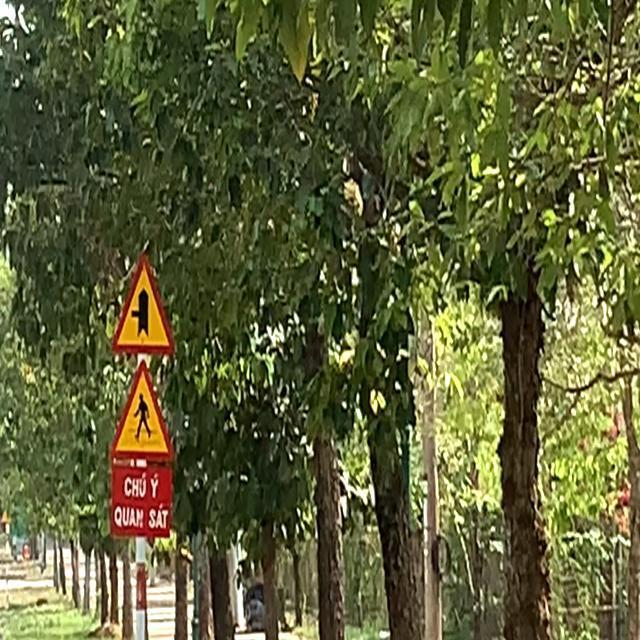207-giao-nhau-voi-duong-khong-uu-tien: (110, 258, 178, 354)
224-duong-nguoi-di-bo-cat-ngang: (108, 362, 172, 461)
